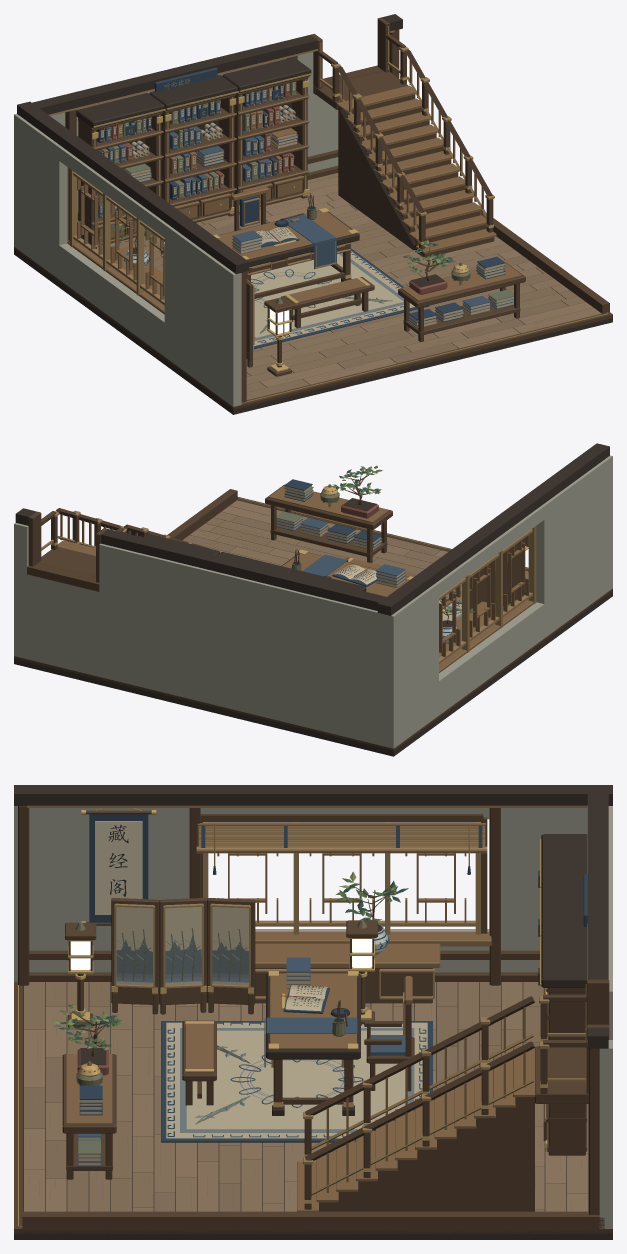
The model's file is library_interior.glb.
3 views of the same model, one above another, from view 1: azimuth 30°, elevation 25°; view 2: azimuth 150°, elevation 25°; view 3: azimuth 270°, elevation 25° (orthographic). The views are drawn at different scales.
Parts seen in each view (by area): view 1: architecture_matte.002, staircase_matte.002, shelf_martial_matte.002, shelf_history_matte.002, shelf_classics_matte.002, rug_matte.002, window_matte.002, desk_matte.002, console_matte.002, bench_matte.002, plant_bonsai_matte.002, chair_matte.002 (+3 smaller); view 2: architecture_matte.002, window_matte.002, console_matte.002, staircase_matte.002, desk_matte.002, plant_bonsai_matte.002, screen_matte.002, manuscript_matte.002; view 3: architecture_matte.002, staircase_matte.002, window_matte.002, rug_matte.002, screen_matte.002, desk_matte.002, shelf_martial_matte.002, wall_scroll_matte.002, console_matte.002, bench_matte.002, chair_matte.002, shelf_classics_matte.002 (+7 smaller).
Boxes of the visible parts, x1,y1,x2,y2 form: architecture_matte.002: (14,14,612,414); staircase_matte.002: (313,34,496,257); shelf_martial_matte.002: (222,57,311,213); shelf_history_matte.002: (149,75,238,222); shelf_classics_matte.002: (76,93,165,248); rug_matte.002: (251,248,429,349); window_matte.002: (67,168,164,314); desk_matte.002: (218,193,359,298); console_matte.002: (398,256,525,341); bench_matte.002: (281,277,374,328); plant_bonsai_matte.002: (403,239,455,294); chair_matte.002: (231,187,268,230); architecture_matte.002: (14,443,612,756); window_matte.002: (439,526,536,672); console_matte.002: (265,479,392,562); staircase_matte.002: (27,508,209,591); desk_matte.002: (281,549,408,596); plant_bonsai_matte.002: (332,465,382,518); screen_matte.002: (469,538,524,609); manuscript_matte.002: (332,564,376,586); architecture_matte.002: (14,785,612,1239); staircase_matte.002: (297,994,588,1211); window_matte.002: (196,814,491,1003); rug_matte.002: (161,1021,432,1142); screen_matte.002: (111,898,255,1014); desk_matte.002: (264,957,360,1115); shelf_martial_matte.002: (538,931,587,1155); wall_scroll_matte.002: (86,808,151,925); console_matte.002: (62,1054,116,1179); bench_matte.002: (182,1020,216,1105); chair_matte.002: (364,976,414,1091); shelf_classics_matte.002: (538,834,587,994).
Size of the model in its own units: 8 by 3 by 8.
